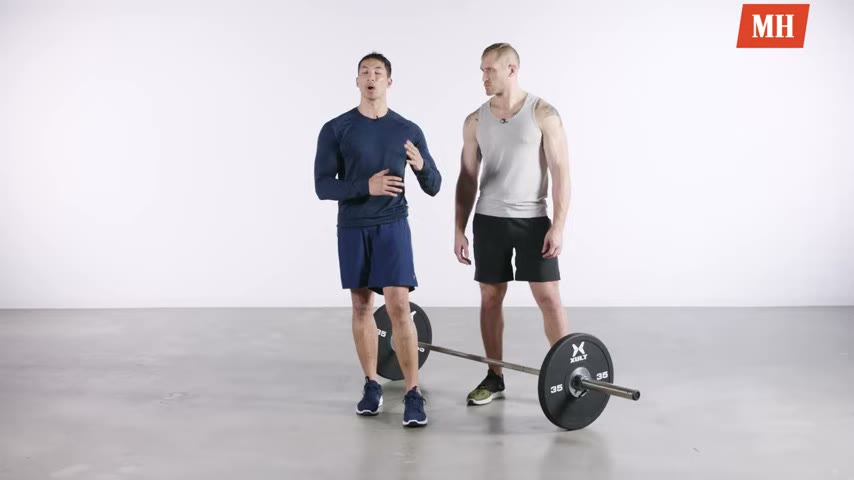barbell_plate_side: (579, 331, 642, 442)
